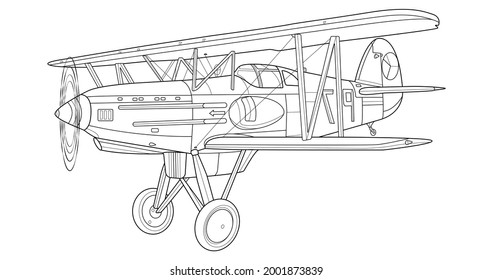airplane: (43, 9, 444, 246)
